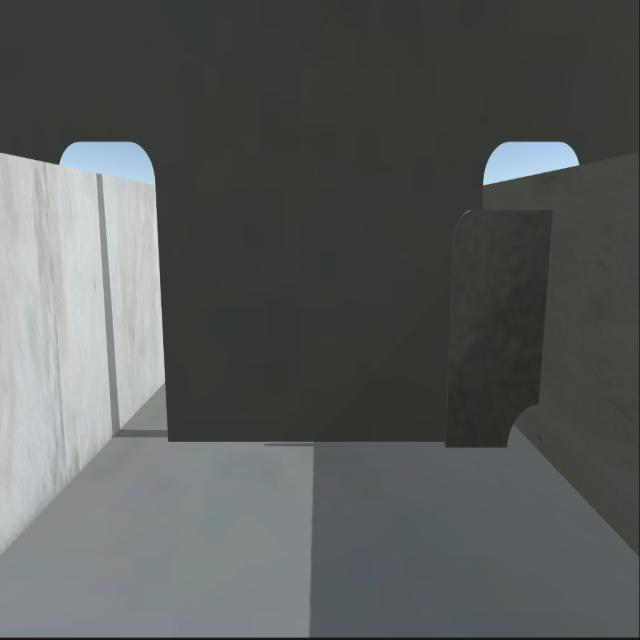fillet_hole: (507, 406, 540, 449)
fillet_yong_jeop_jang: (167, 441, 498, 453)
longi_yong_jeop_jang: (534, 217, 552, 399)
plate_CP05: (447, 213, 547, 447)
